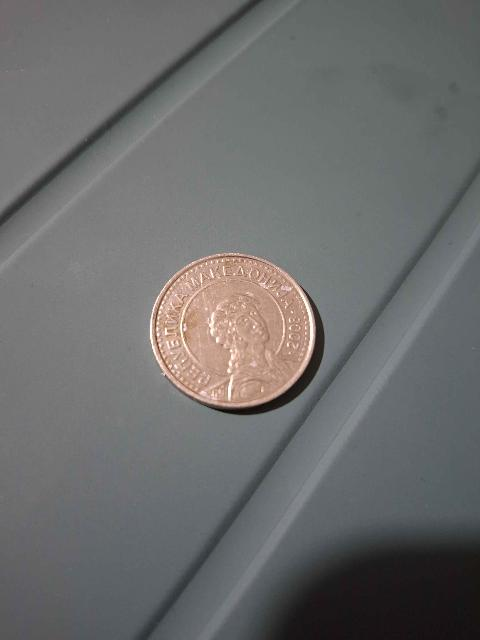coin: (149, 245, 316, 413)
